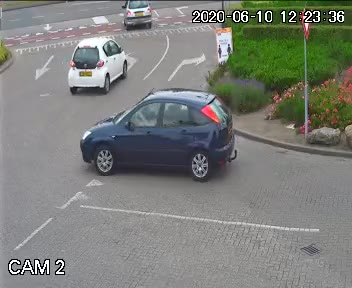car: (75, 91, 243, 187), (68, 31, 127, 98), (119, 0, 158, 30)
